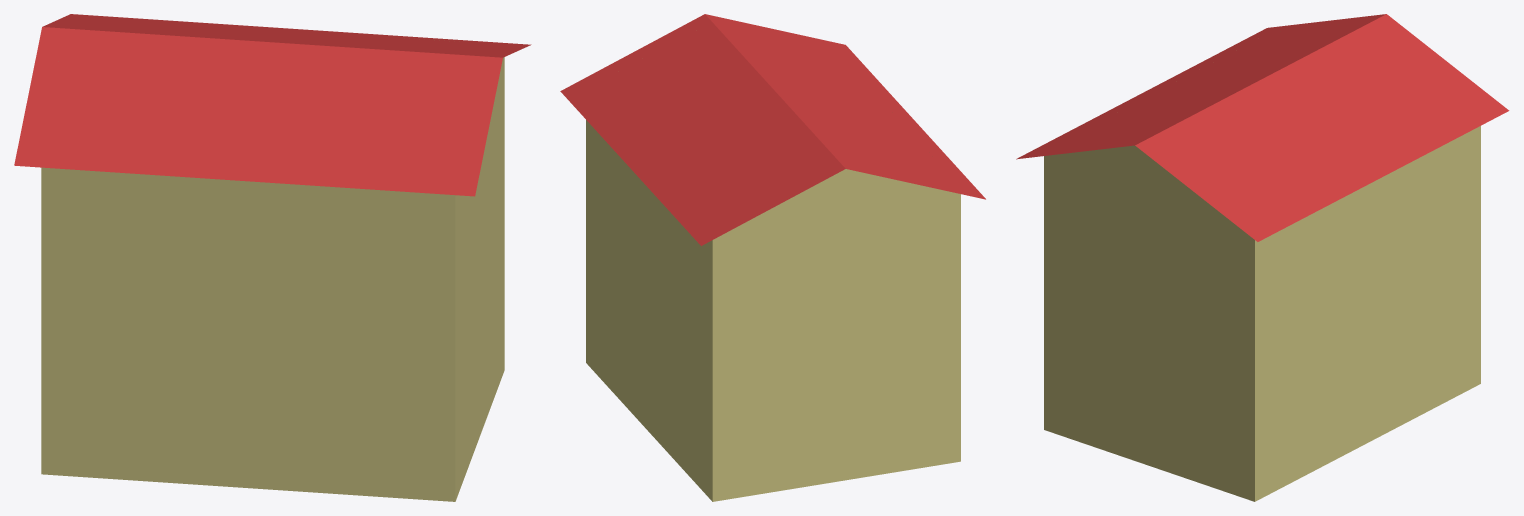
The picture shows the model from 3 angles, left to right: view 1: azimuth 30°, elevation 25°; view 2: azimuth 150°, elevation 25°; view 3: azimuth 270°, elevation 25°; orthographic projection. The views are drawn at different scales.
Parts seen in each view (by area): view 1: group_5, group_3, group_4; view 2: group_5, group_3, group_4; view 3: group_5, group_3, group_4.
Part boxes in pixels (box(x1,y1,x2,y2)): group_5: box(41, 57, 504, 501); group_3: box(40, 14, 503, 196); group_4: box(14, 14, 531, 196); group_5: box(586, 120, 960, 501); group_3: box(560, 14, 960, 245); group_4: box(560, 14, 985, 244); group_5: box(1044, 126, 1480, 501); group_3: box(1016, 14, 1509, 240); group_4: box(1018, 14, 1508, 241).
Size of the model in its own units: 18.78 by 18.29 by 13.34.
